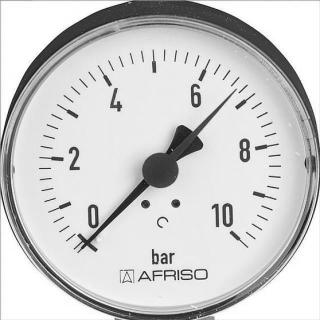gauge: (0, 9, 320, 320), (141, 151, 179, 189), (212, 218, 252, 250), (73, 230, 107, 256), (72, 238, 93, 258), (229, 84, 241, 96)
